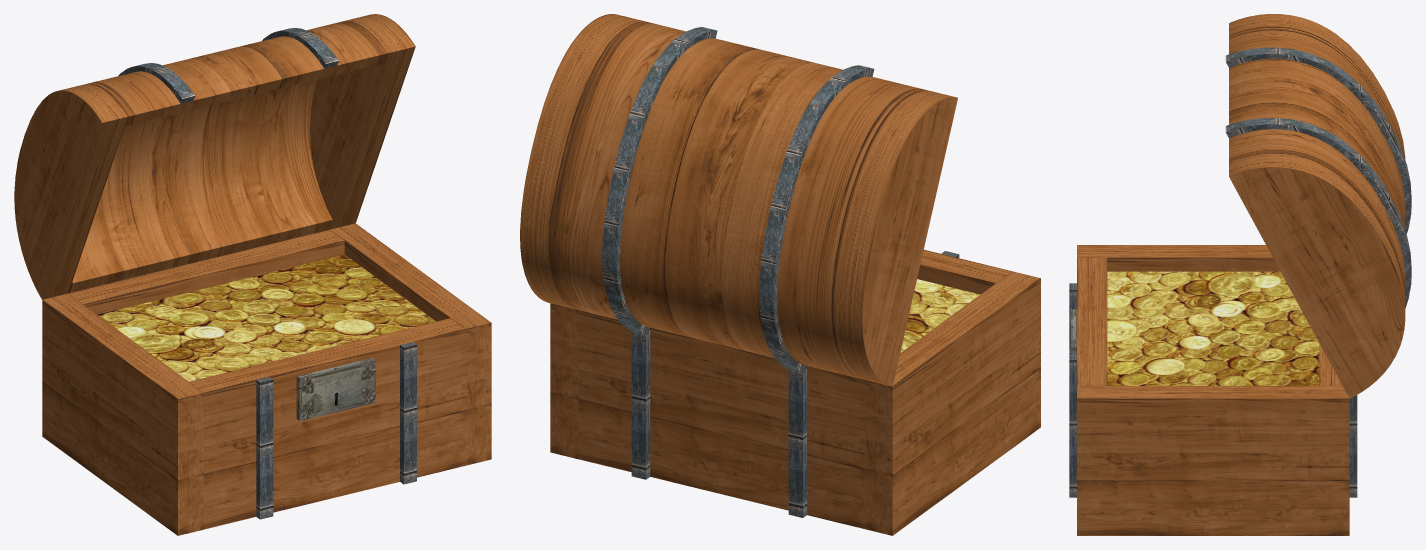
The model's file is Schatztruhe.fbx.
3 renders of one model, left to right at view 1: azimuth 30°, elevation 25°; view 2: azimuth 150°, elevation 25°; view 3: azimuth 270°, elevation 25°, orthographic. The views are drawn at different scales.
Parts seen in each view (by area): view 1: Extrudieren_2_2, Wand_3, Wand, Gold, Deckfläche_1_4, Wand_2, Wand_4, Deckfläche_1_5, Extrudieren_1, Extrudieren_2_3, Schloss, Metalbeschlag_2 (+3 smaller); view 2: Extrudieren_2_2, Wand_4, Wand, Deckfläche_1_4, Extrudieren_1, Extrudieren_2_3, Extrudieren_2, Extrudieren, Wand_2, Metalbeschlag_3, Metalbeschlag_4, Gold (+3 smaller); view 3: Wand_2, Gold, Deckfläche_2_5, Extrudieren_2_2, Wand, Wand_3, Extrudieren_2_3, Extrudieren_1, Deckfläche_2, Deckfläche_2_2, Extrudieren_2, Extrudieren (+3 smaller).
Boxes of the visible parts, x1=… form: Extrudieren_2_2: x1=68, y1=20, x2=389, y2=293; Wand_3: x1=189, y1=318, x2=465, y2=529; Wand: x1=42, y1=293, x2=203, y2=535; Gold: x1=97, y1=254, x2=435, y2=381; Deckfläche_1_4: x1=14, y1=90, x2=101, y2=299; Wand_2: x1=330, y1=223, x2=491, y2=465; Wand_4: x1=68, y1=230, x2=344, y2=314; Deckfläche_1_5: x1=310, y1=29, x2=385, y2=219; Extrudieren_1: x1=42, y1=84, x2=128, y2=299; Extrudieren_2_3: x1=329, y1=14, x2=415, y2=229; Schloss: x1=296, y1=357, x2=375, y2=420; Metalbeschlag_2: x1=256, y1=377, x2=273, y2=519; Extrudieren_2_2: x1=548, y1=21, x2=927, y2=378; Wand_4: x1=579, y1=310, x2=863, y2=528; Wand: x1=864, y1=271, x2=1040, y2=535; Deckfläche_1_4: x1=862, y1=97, x2=957, y2=386; Extrudieren_1: x1=834, y1=90, x2=956, y2=385; Extrudieren_2_3: x1=520, y1=14, x2=642, y2=309; Extrudieren_2: x1=759, y1=65, x2=873, y2=372; Extrudieren: x1=602, y1=27, x2=716, y2=334; Wand_2: x1=550, y1=303, x2=578, y2=459; Metalbeschlag_3: x1=631, y1=328, x2=650, y2=479; Metalbeschlag_4: x1=788, y1=366, x2=806, y2=517; Gold: x1=900, y1=279, x2=980, y2=352; Wand_2: x1=1077, y1=386, x2=1349, y2=535; Gold: x1=1107, y1=271, x2=1319, y2=385; Deckfläche_2_5: x1=1229, y1=167, x2=1405, y2=398; Extrudieren_2_2: x1=1229, y1=26, x2=1405, y2=296; Wand: x1=1077, y1=245, x2=1280, y2=271; Wand_3: x1=1077, y1=257, x2=1107, y2=385; Extrudieren_2_3: x1=1229, y1=155, x2=1405, y2=309; Extrudieren_1: x1=1229, y1=14, x2=1405, y2=159; Deckfläche_2: x1=1226, y1=124, x2=1411, y2=308; Deckfläche_2_2: x1=1226, y1=54, x2=1411, y2=233; Extrudieren_2: x1=1225, y1=47, x2=1411, y2=201; Extrudieren: x1=1225, y1=118, x2=1411, y2=271.
Bounding box in the file's own units: 240 × 272 × 226.
13 materials, 13 textured.
